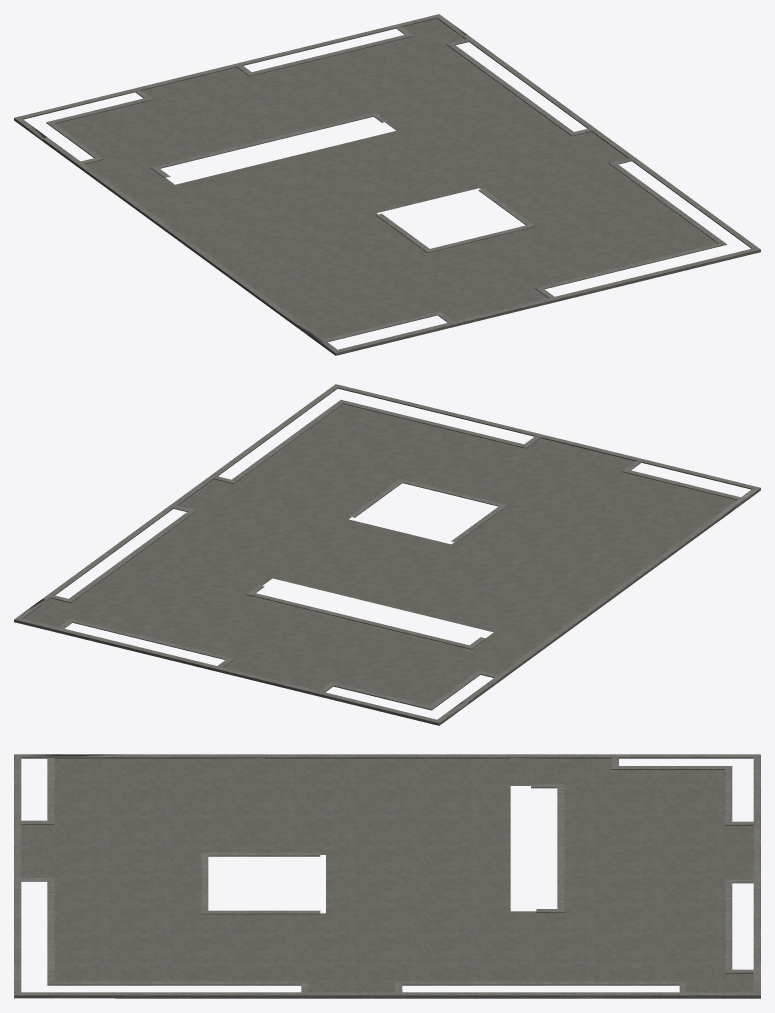
File: MiniBR_Floor001.fbx
3 views of the same model, one above another, from view 1: azimuth 30°, elevation 25°; view 2: azimuth 150°, elevation 25°; view 3: azimuth 270°, elevation 25° (orthographic). The views are drawn at different scales.
Parts seen in each view (by area): view 1: MiniBR_Floor001; view 2: MiniBR_Floor001; view 3: MiniBR_Floor001.
Part boxes in pixels (left/top/right/bottom): MiniBR_Floor001: left=14, top=14, right=760, bottom=355; MiniBR_Floor001: left=14, top=384, right=760, bottom=725; MiniBR_Floor001: left=14, top=754, right=760, bottom=998.
Bounding box in the file's own units: 3893 × 5100 × 22.86.
